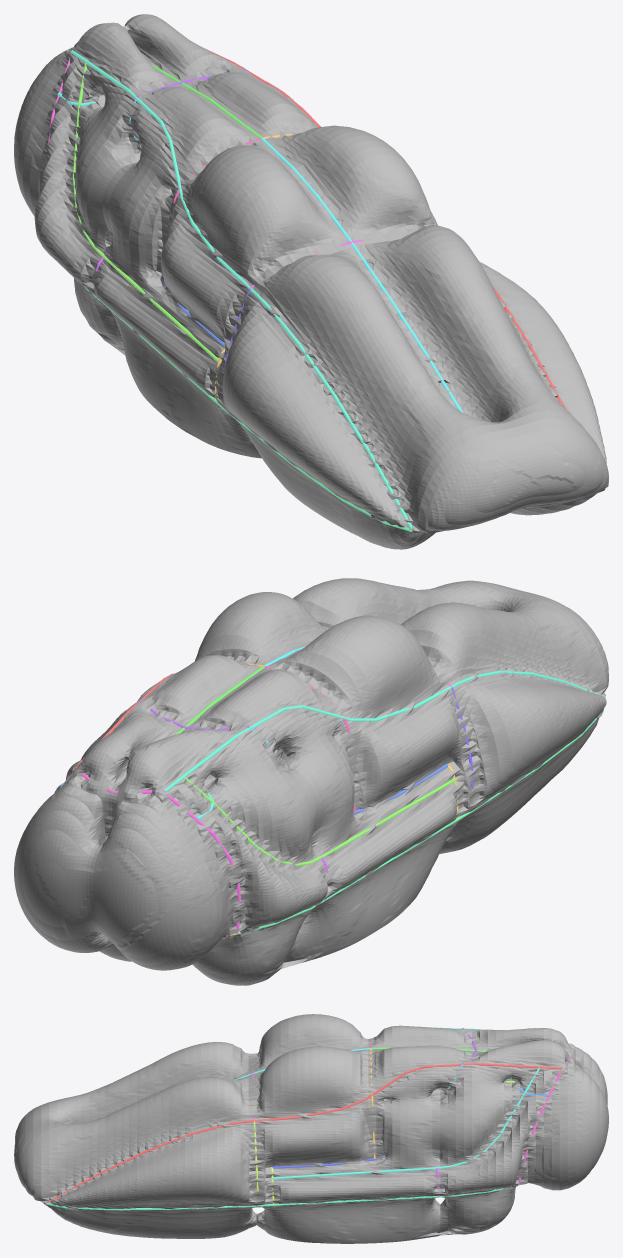
File: t2f_hand_vacuum.gltf
3 views of the same model, one above another, from view 1: azimuth 30°, elevation 25°; view 2: azimuth 150°, elevation 25°; view 3: azimuth 270°, elevation 25° (orthographic). The views are drawn at different scales.
Bounding box in the file's own units: 0.4056 × 0.3373 × 1.03.
